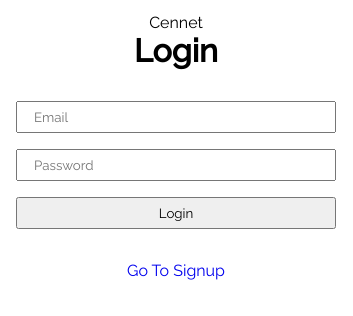
Test: empty spec › the password is wrong
Type "mttuna90@gmail.com" into the field with placeholder "Email" at (176, 117), box [16, 101, 336, 133]
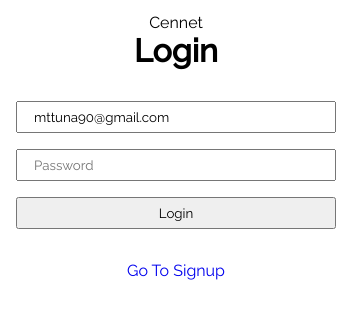
Type "wrongpassword" into the password field with placeholder "Password" at (176, 165), box [16, 149, 336, 181]
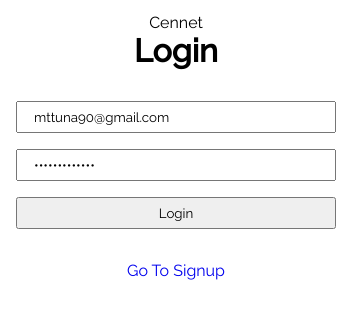
Click the button with test id "login-btn" at (176, 213), box [16, 197, 336, 229]
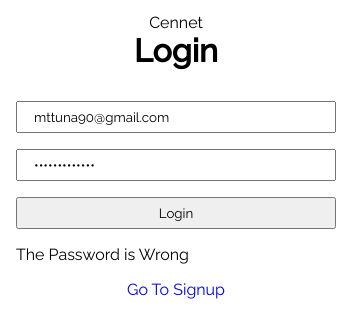
Now the text "The Password is Wrong" is shown, box [16, 245, 189, 264]
